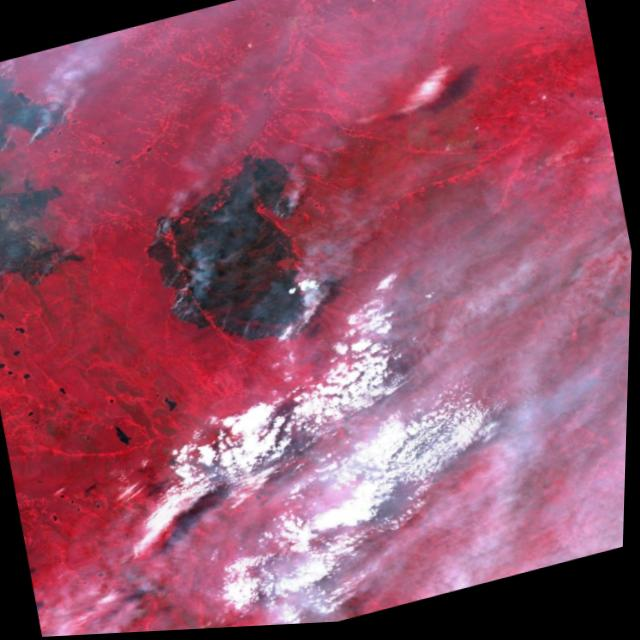fire: (132, 167, 338, 381), (0, 93, 86, 156), (0, 247, 63, 300)
